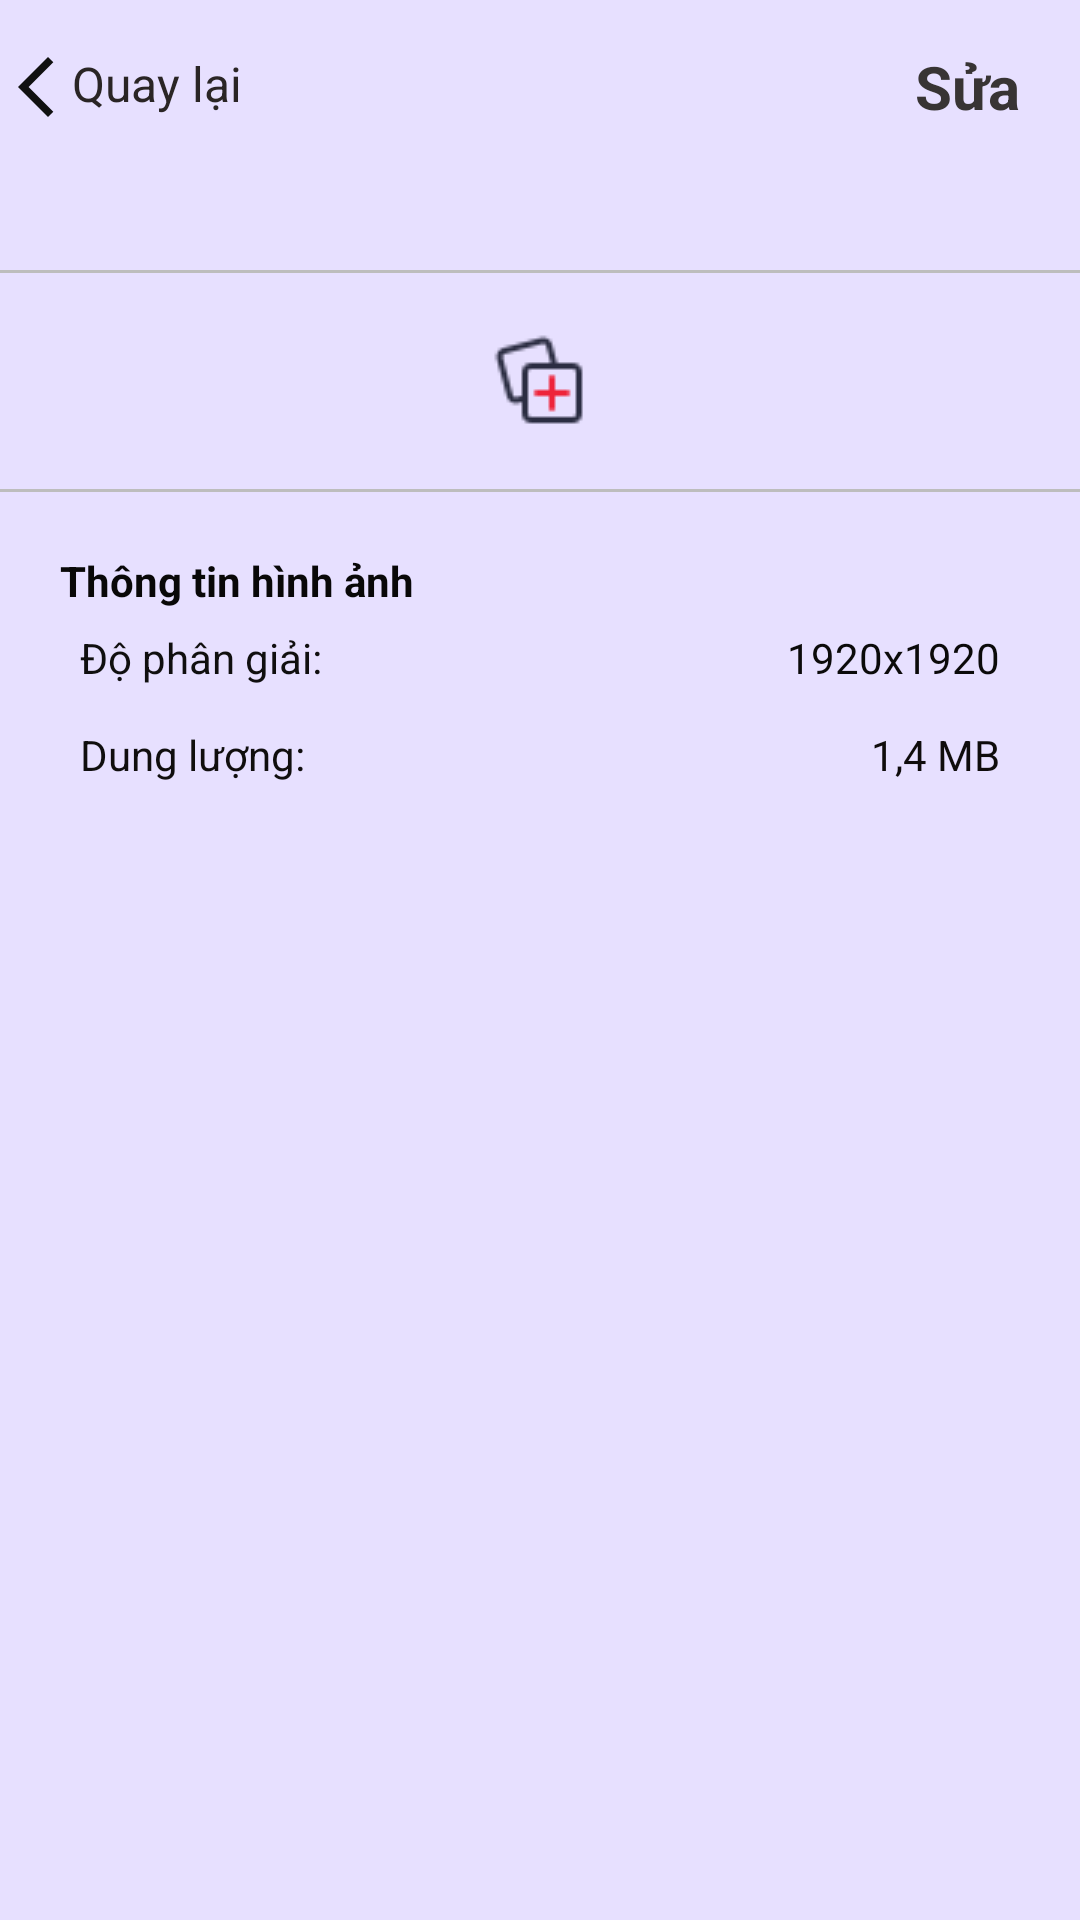

Locate icon controls on the screen. Image size 1080 × 1920, boxes as (x1, y1, x2, y2).
add album: (495, 336, 583, 424)
